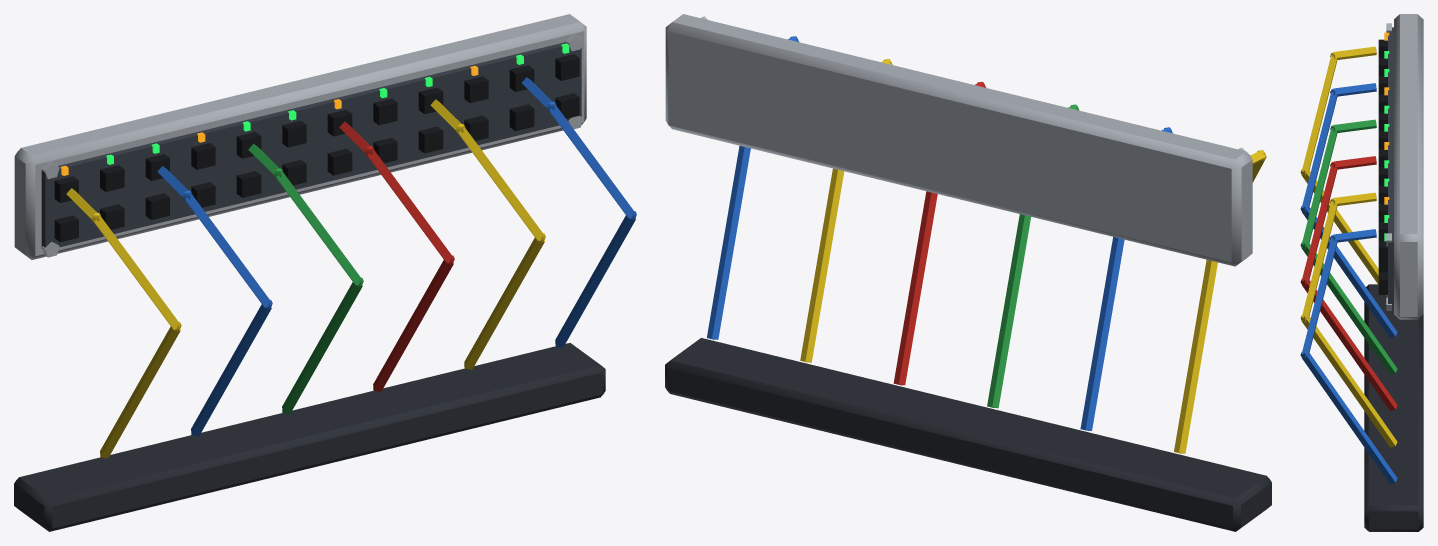
Rendered from router_patch_panel.glb.
3 views of the same model, side by side, from view 1: azimuth 30°, elevation 25°; view 2: azimuth 150°, elevation 25°; view 3: azimuth 270°, elevation 25° (orthographic). The views are drawn at different scales.
Parts seen in each view (by area): view 1: router_patch_panel; view 2: router_patch_panel; view 3: router_patch_panel.
Boxes of the visible parts, x1,y1,x2,y2 form: router_patch_panel: [14, 14, 636, 531]; router_patch_panel: [665, 14, 1271, 531]; router_patch_panel: [1300, 14, 1423, 531].
Size of the model in its own units: 0.9 by 0.555 by 0.208.
